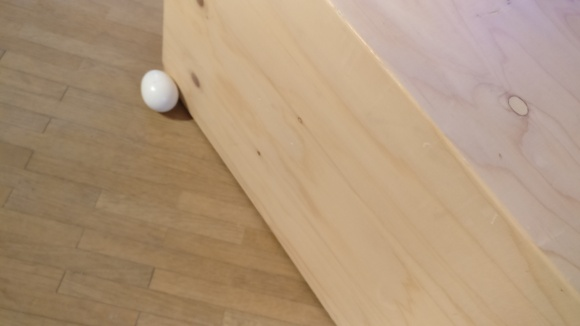egg: (141, 69, 178, 115)
